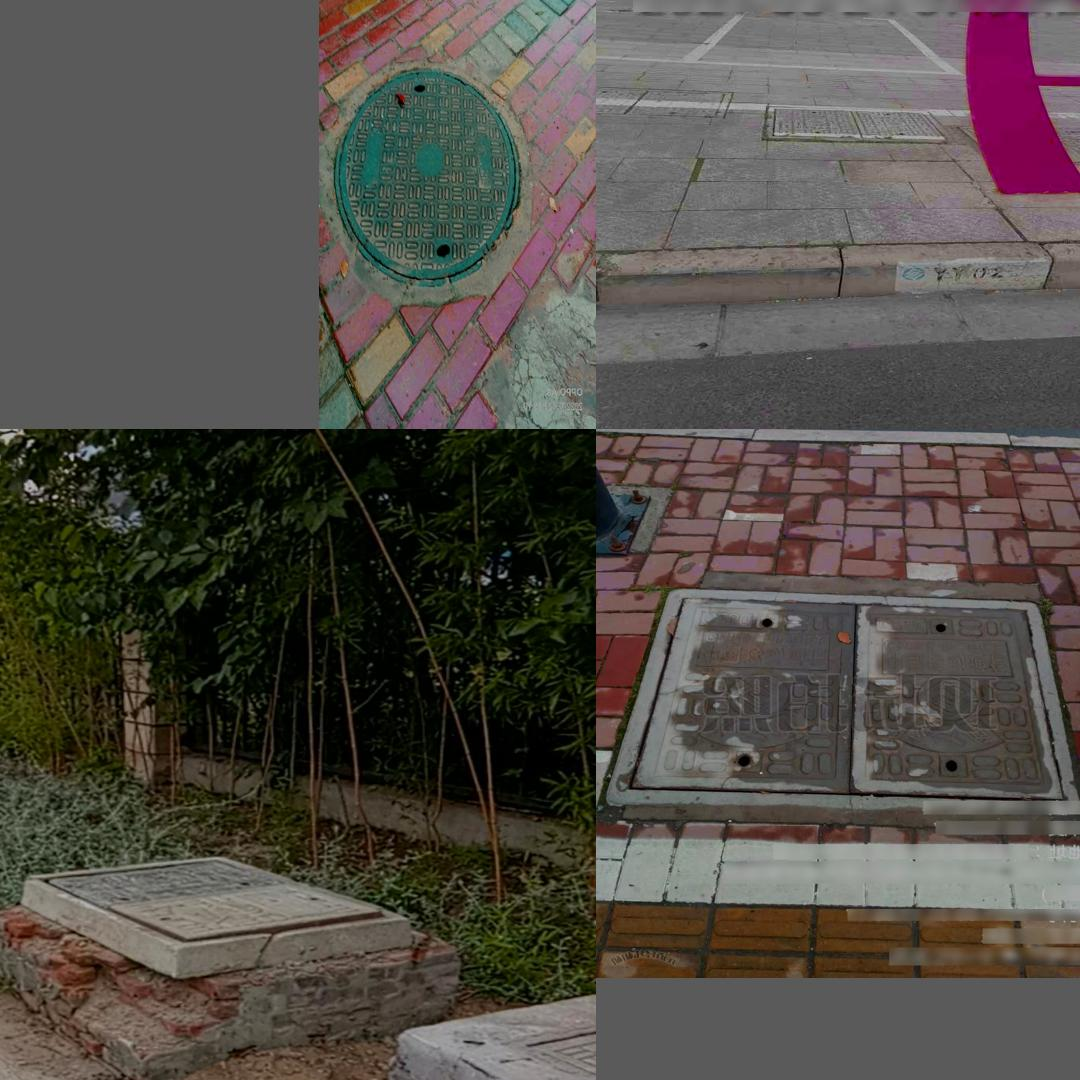good: (605, 588, 1080, 807), (332, 69, 519, 286), (28, 855, 406, 947), (760, 105, 955, 142), (597, 86, 733, 119)
